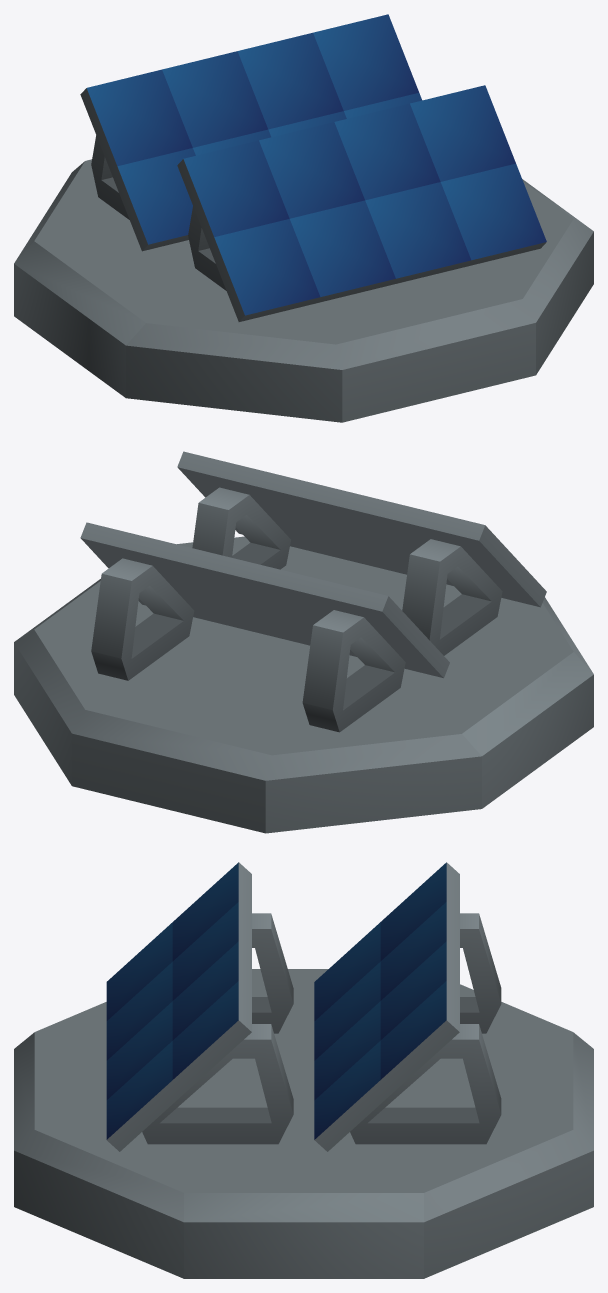
Rendered from space-roofmodule-solarpanels.glb.
The picture shows the model from 3 angles, top to bottom: view 1: azimuth 30°, elevation 25°; view 2: azimuth 150°, elevation 25°; view 3: azimuth 270°, elevation 25°; orthographic projection. The views are drawn at different scales.
Parts seen in each view (by area): view 1: roofmodule_solarpanels; view 2: roofmodule_solarpanels; view 3: roofmodule_solarpanels.
Boxes of the visible parts, x1,y1,x2,y2 form: roofmodule_solarpanels: [14, 14, 593, 422]; roofmodule_solarpanels: [14, 451, 593, 833]; roofmodule_solarpanels: [14, 862, 593, 1278].
Bounding box in the file's own units: 1.4 × 0.5709 × 1.4.
